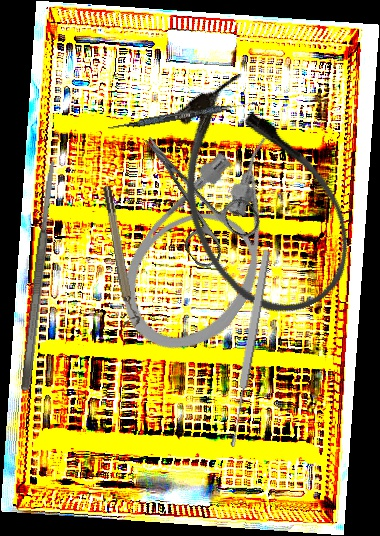Cannula: (141, 59, 374, 337), (97, 114, 329, 375)
Fixation Ring: (100, 184, 142, 329)
Iris Scissors: (118, 112, 266, 273)
Spatula Surgical: (18, 158, 60, 392), (107, 96, 259, 135)
Surgical Spoon: (226, 249, 273, 448)
